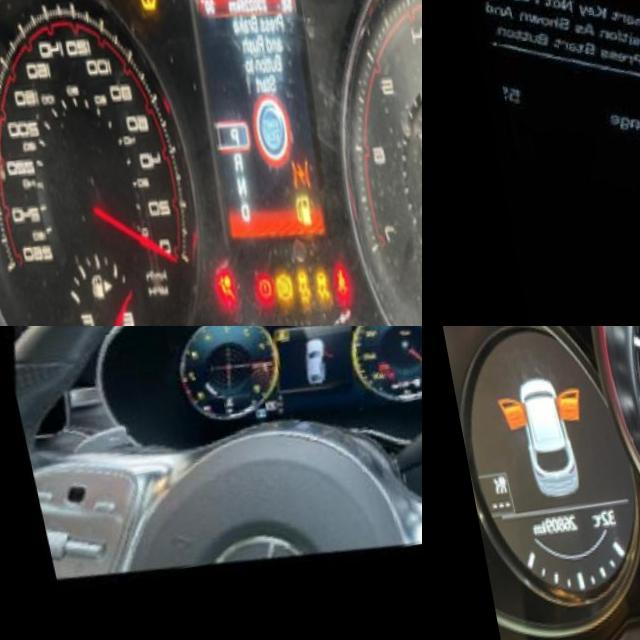Engine cooling system: (208, 391, 221, 406)
Low fuel level: (276, 201, 300, 240)
